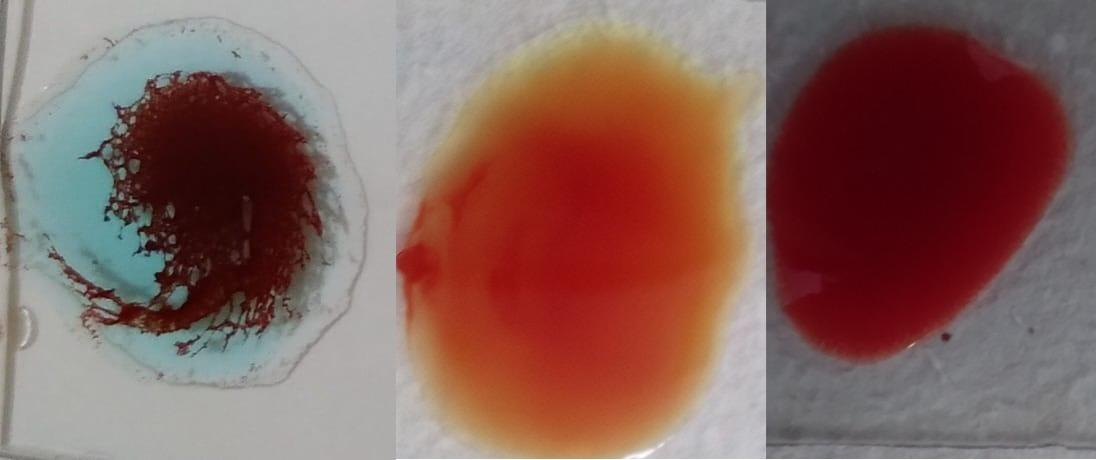A: (19, 22, 367, 393)
